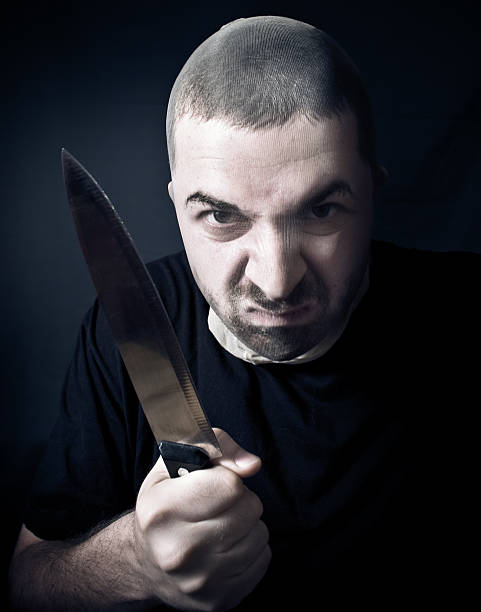knife: (60, 144, 217, 476)
